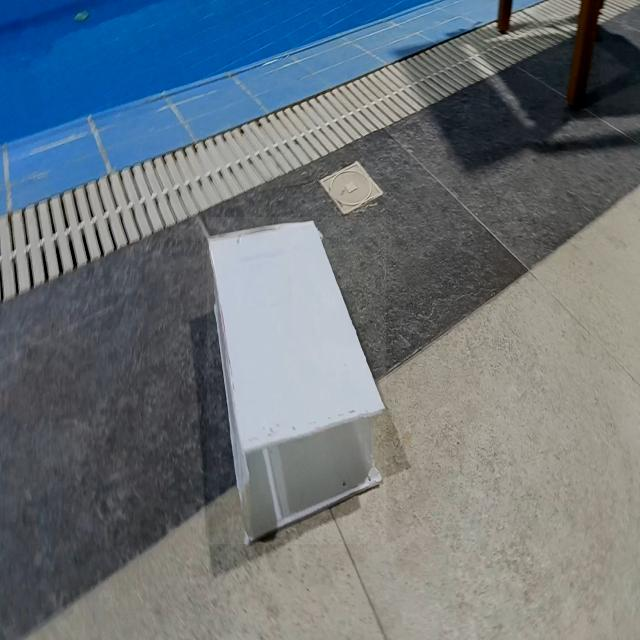Cuboid: (207, 217, 386, 544)
